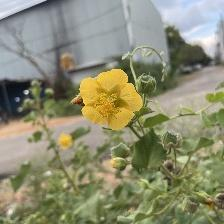indian mallow: (78, 69, 144, 134)
